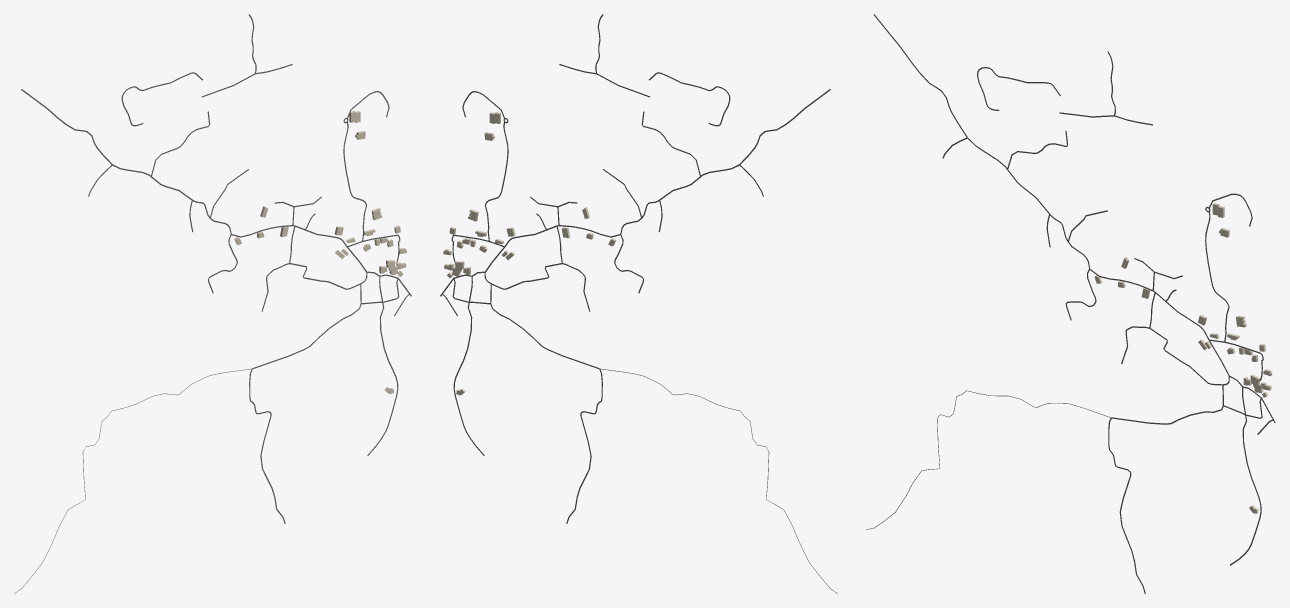
Rendered from historic-palestine-09_24_3514_3182.glb.
3 views of the same model, side by side, from view 1: azimuth 30°, elevation 25°; view 2: azimuth 150°, elevation 25°; view 3: azimuth 330°, elevation 25° (orthographic). The views are drawn at different scales.
Visible parts, largest first — view 1: Road .001; view 2: Road .001; view 3: Road .001.
Boxes of the visible parts, x1,y1,x2,y2 form: Road .001: (21,89,347,246); Road .001: (504,89,830,246); Road .001: (873,14,1209,339).
Bounding box in the file's own units: 1061 × 1331 × 8.7.
